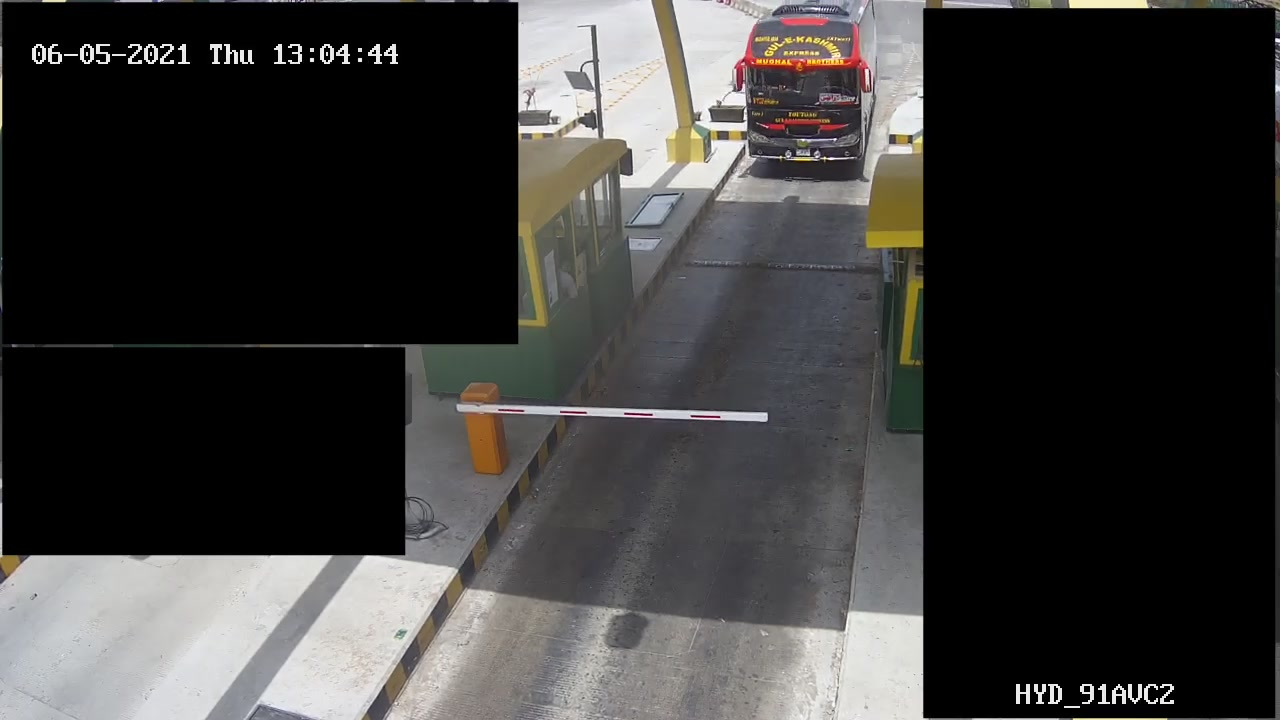F4: (734, 2, 883, 185)
